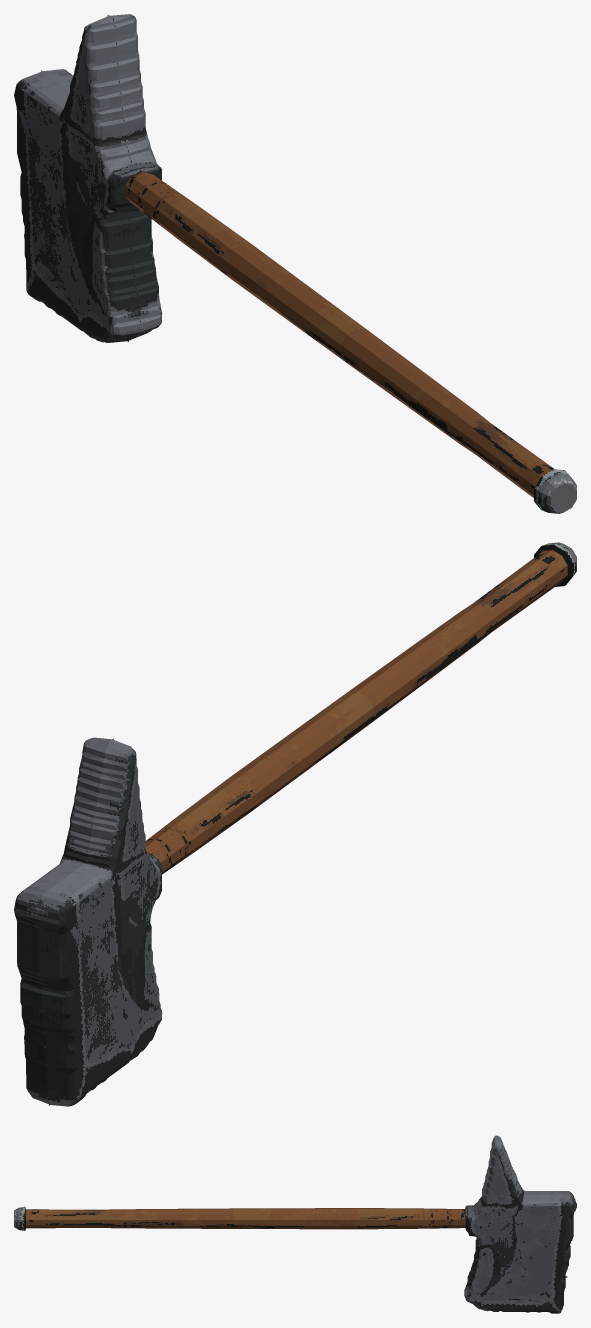
The model's file is warhammer.glb.
The picture shows the model from 3 angles, top to bottom: view 1: azimuth 30°, elevation 25°; view 2: azimuth 150°, elevation 25°; view 3: azimuth 270°, elevation 25°; orthographic projection. The views are drawn at different scales.
Parts seen in each view (by area): view 1: head, haft, butt; view 2: head, haft; view 3: head, haft, butt.
Part boxes in pixels (bbox=[...]): head: bbox=[14, 14, 161, 342]; haft: bbox=[125, 171, 554, 497]; butt: bbox=[534, 469, 576, 513]; head: bbox=[14, 737, 162, 1106]; haft: bbox=[145, 544, 572, 874]; head: bbox=[464, 1135, 576, 1313]; haft: bbox=[25, 1207, 465, 1229]; butt: bbox=[14, 1206, 25, 1230].
Size of the model in its own units: 0.06 by 0.3516 by 1.05.
Materials: 2 (2 with a texture image).
